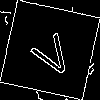V: (25, 25, 77, 81)
